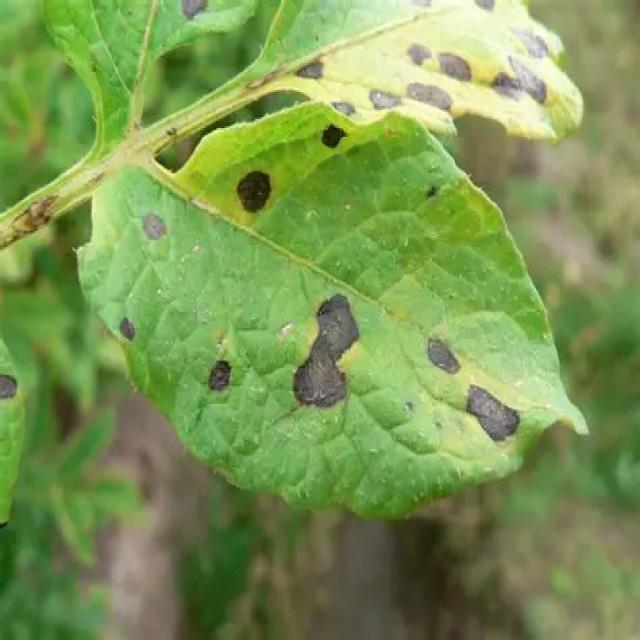leaf_spot: (78, 105, 586, 516), (196, 0, 582, 141)
